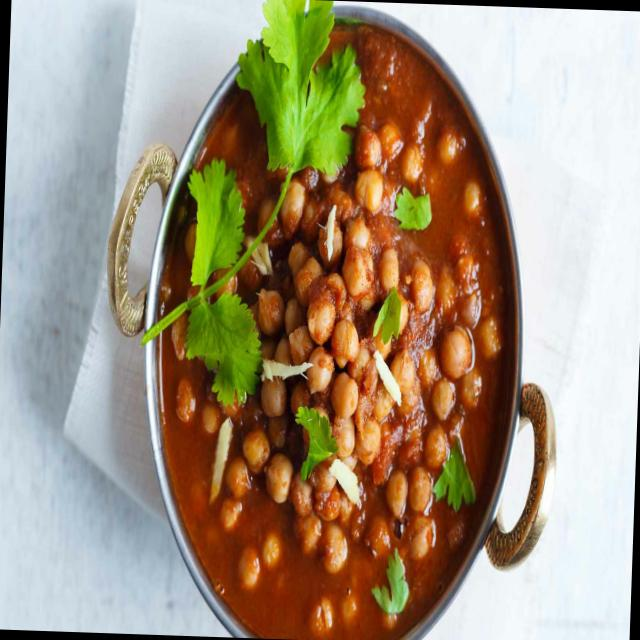Chole: (149, 15, 517, 640)
